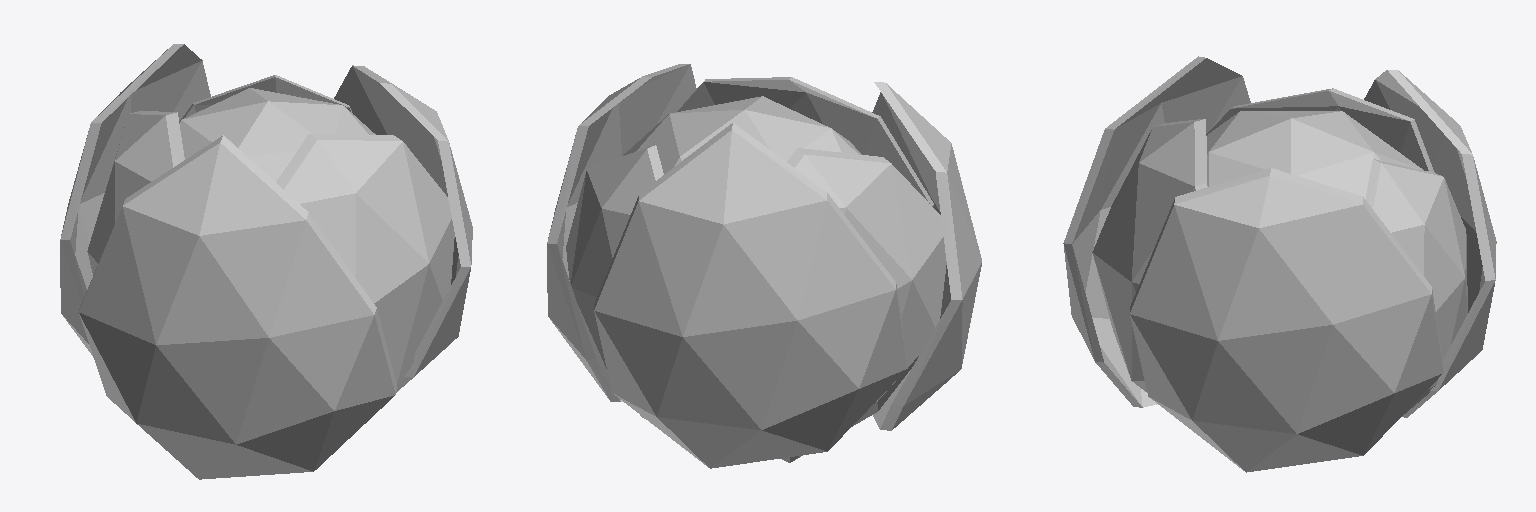
Rendered from cabbageStage0.obj.
3 views of the same model, side by side, from view 1: azimuth 30°, elevation 25°; view 2: azimuth 150°, elevation 25°; view 3: azimuth 270°, elevation 25° (orthographic).
Parts seen in each view (by area): view 1: Cabbage0; view 2: Cabbage0; view 3: Cabbage0.
Part boxes in pixels (x1,y1,x2,y2): Cabbage0: (60, 44, 472, 479); Cabbage0: (547, 64, 981, 468); Cabbage0: (1063, 56, 1496, 472).
Size of the model in its own units: 0.2354 by 0.2144 by 0.2373.